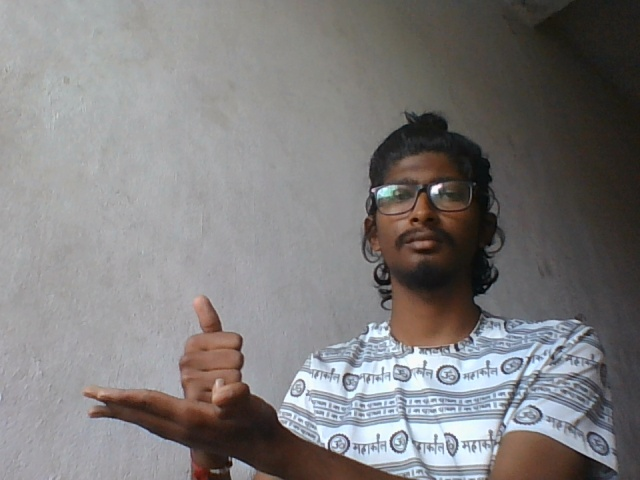Name: (78, 292, 281, 442)
